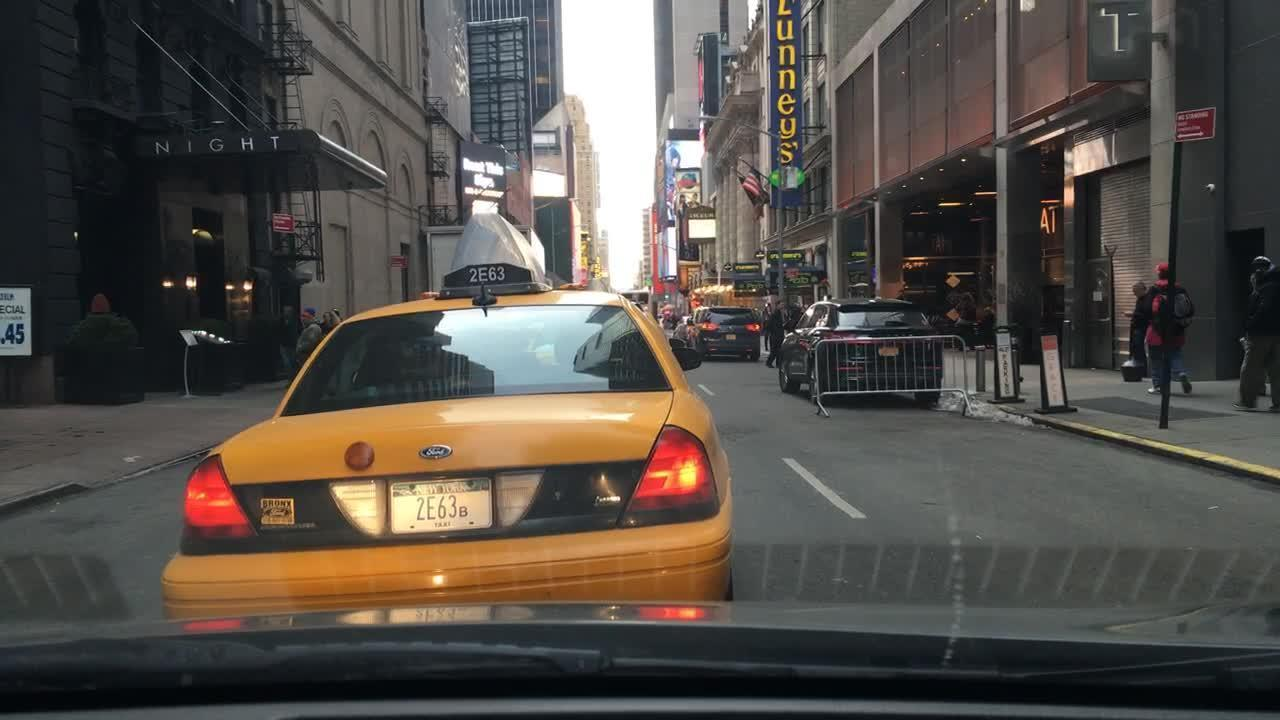ford: (417, 442, 459, 462)
